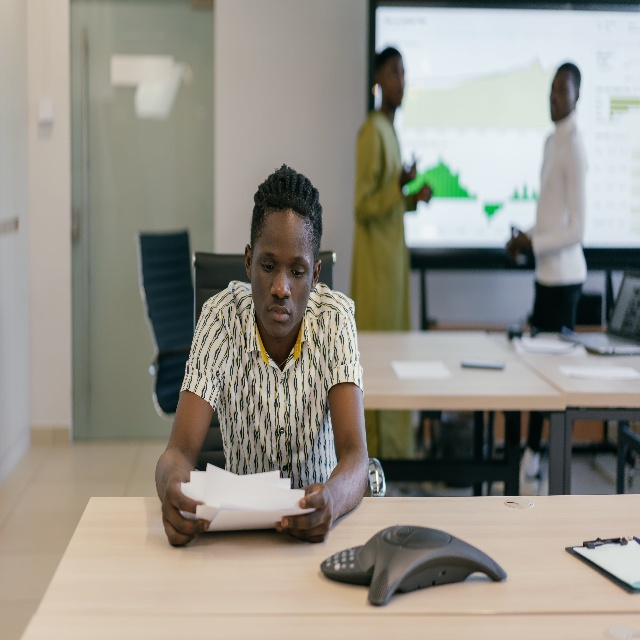Sin_guantes: (272, 480, 335, 545), (161, 473, 213, 548), (418, 182, 434, 203), (402, 158, 416, 180)
